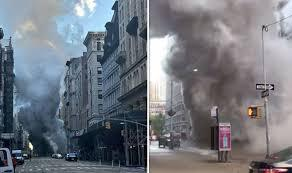smoke: (148, 0, 292, 155), (1, 10, 70, 158)
